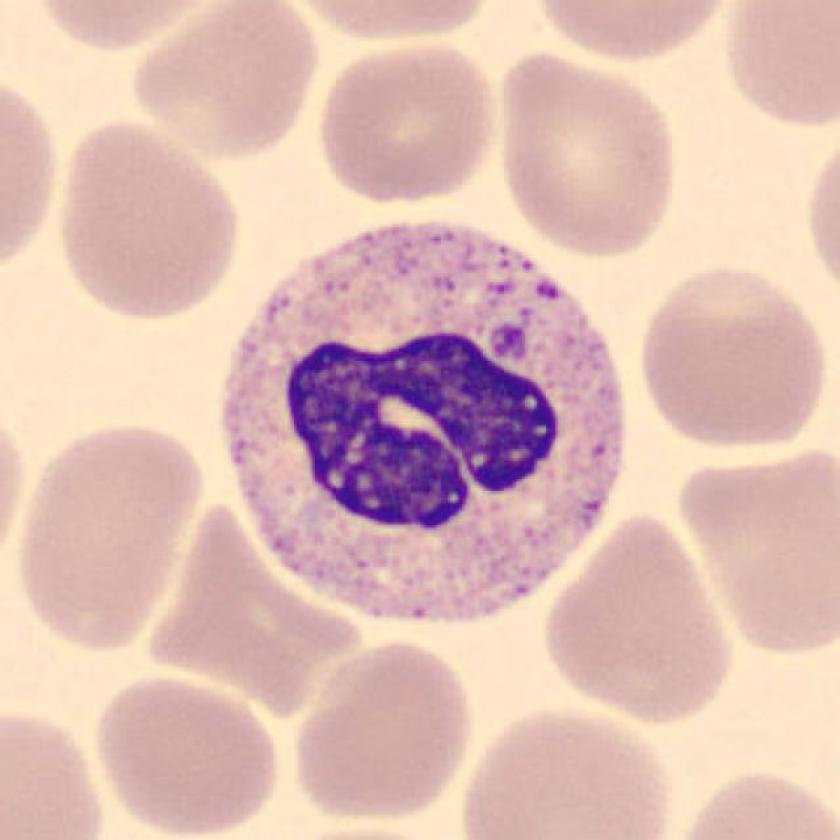neutrophil: (220, 228, 622, 619)
